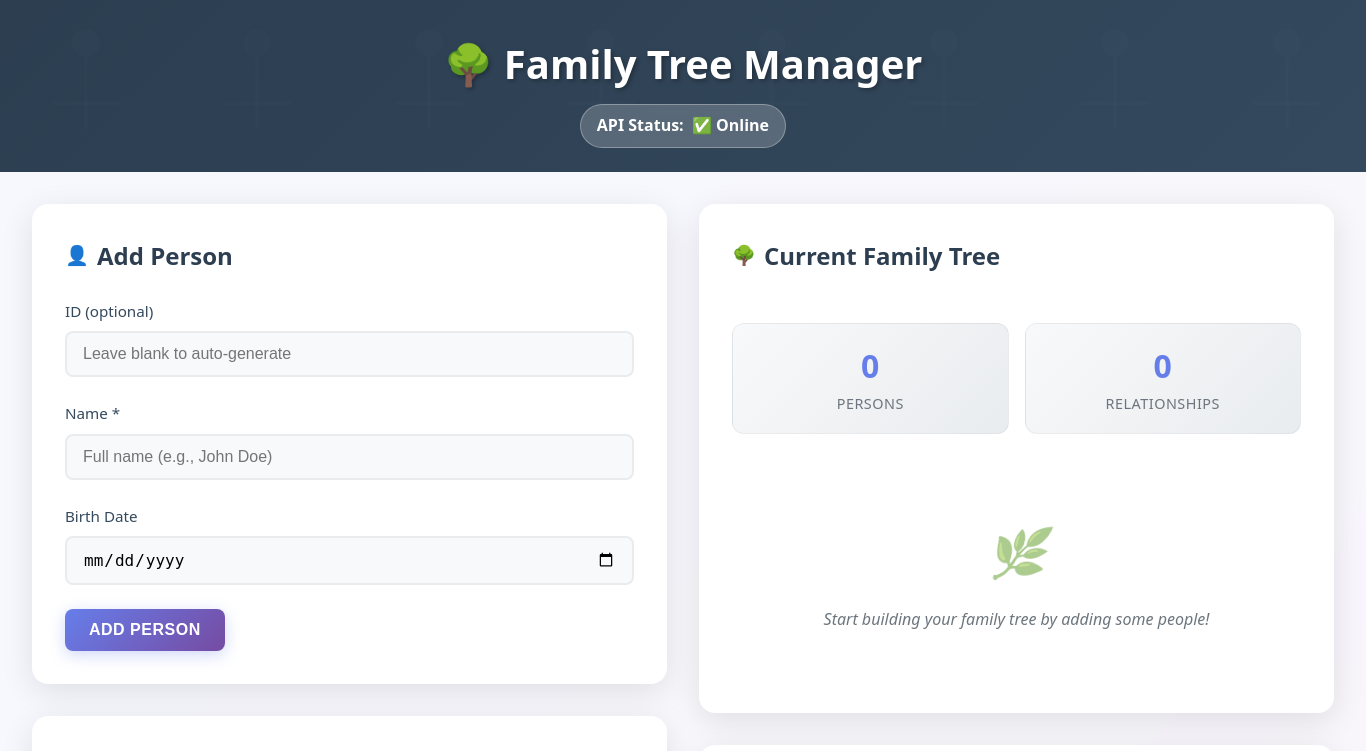
Test case: App › adds a person successfully
This screenshot has width=1366, height=751.
Expected: the text "✅ Online" is shown, 692,113 -> 769,139
Note: Add a person
Type "person-1" into the field labelled "ID (optional)" at (350,354), box 65,331 -> 634,377
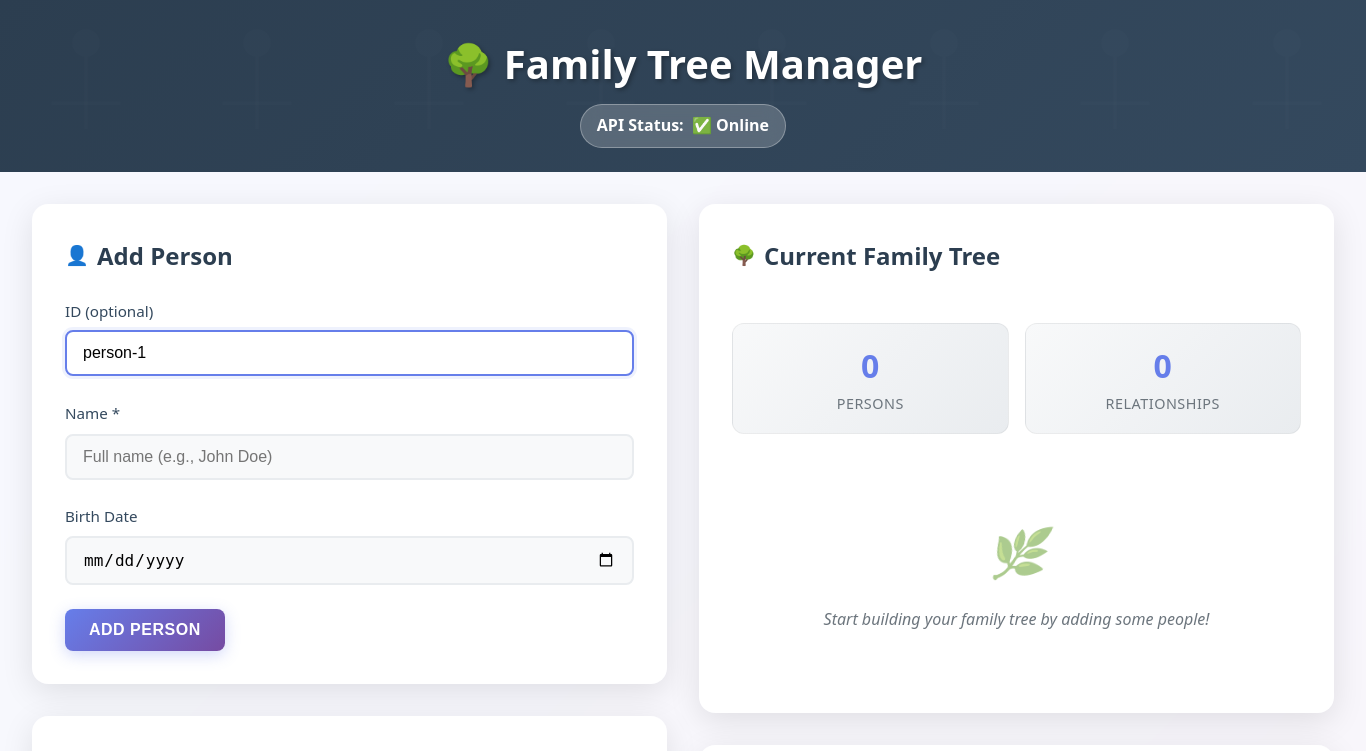
Type "John Doe" into the field labelled "Name *" at (350,457), box 65,434 -> 634,480
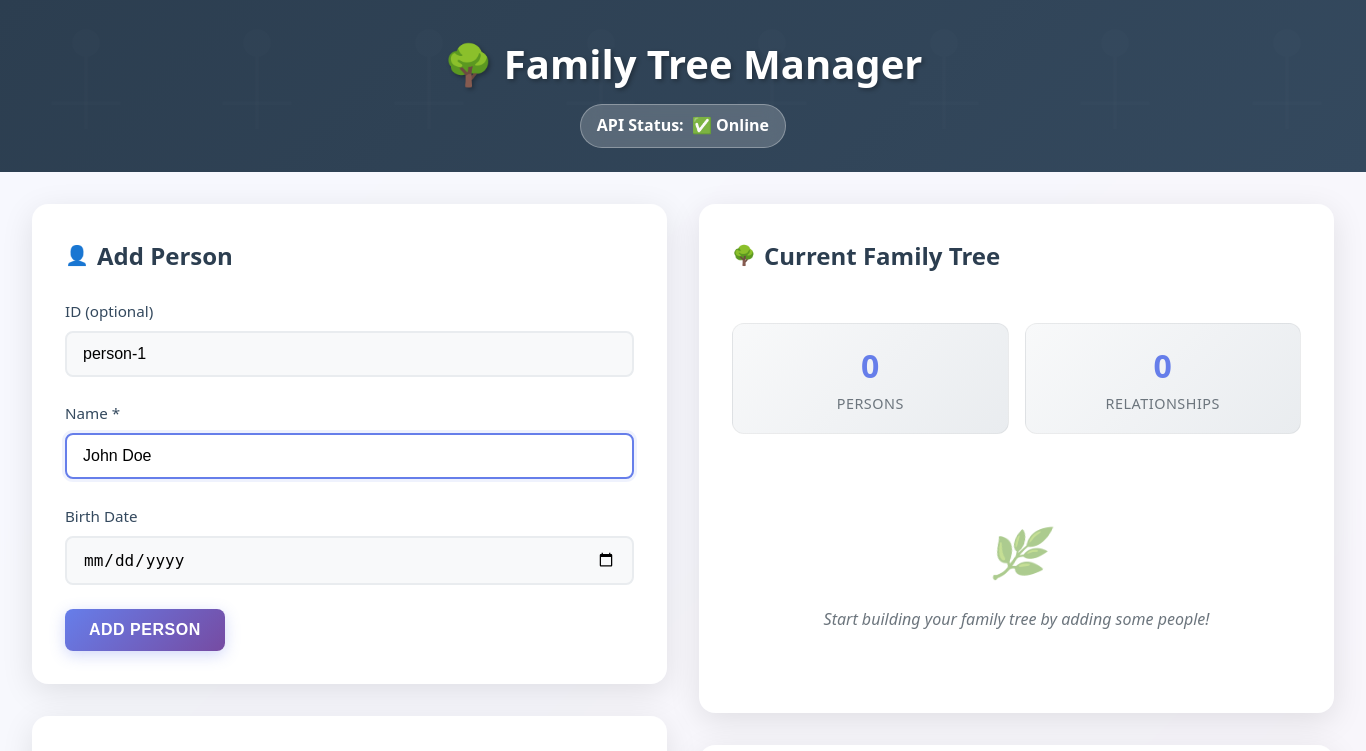
Type "1970-01-01" into the date field labelled "Birth Date" at (350,560), box 65,536 -> 634,585
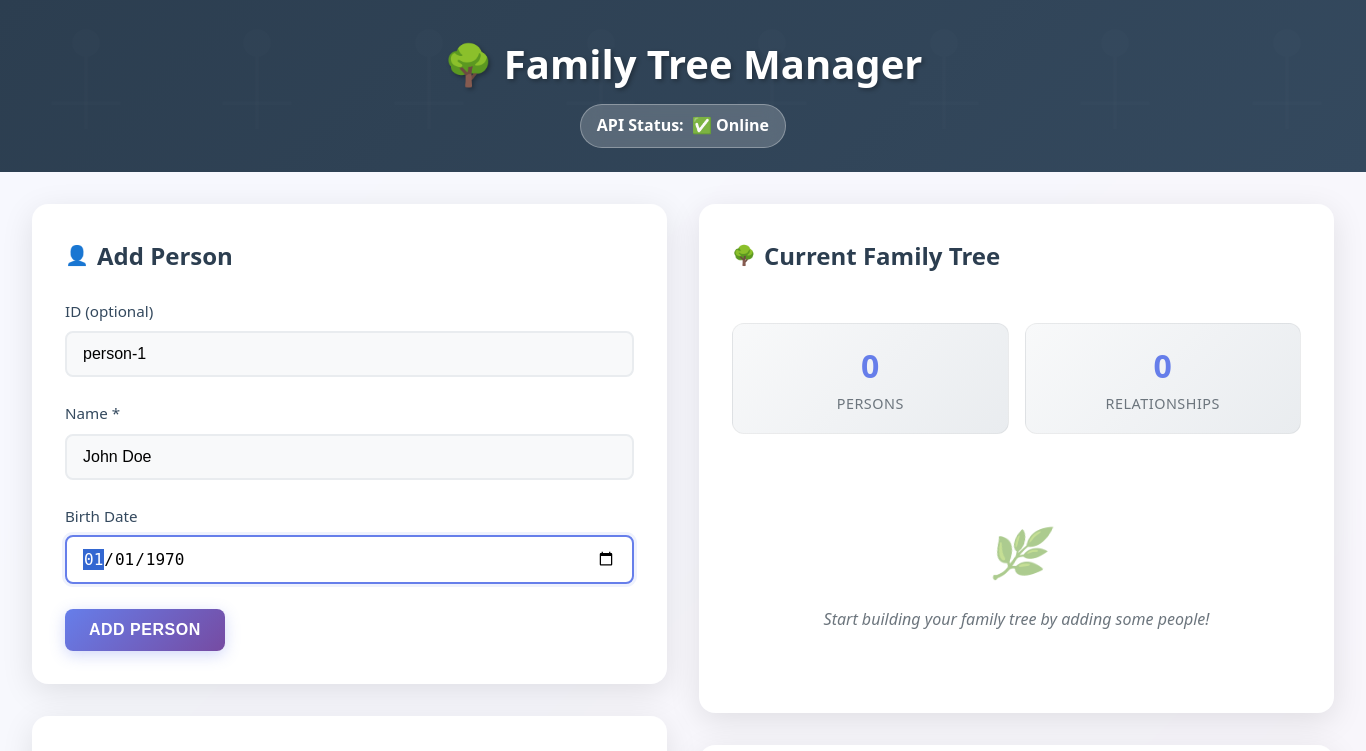
Click the button "Add Person" at (145,630), box 65,609 -> 225,651
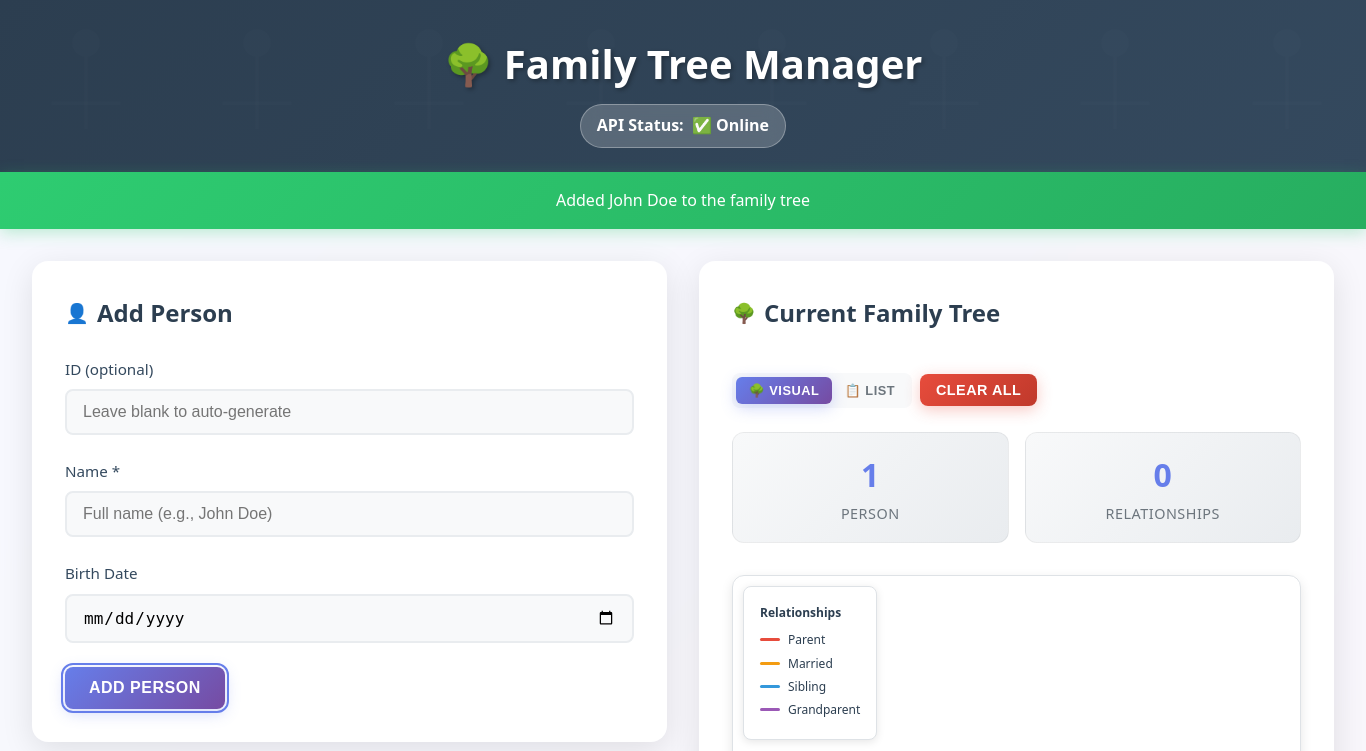
Expected: the text "Person" is shown, 841,504 -> 900,522
Result: the text "Added John Doe to the family tree" is shown at 0,172 -> 1365,229
Click the button "📋 List" at (870,390), box 832,377 -> 908,404
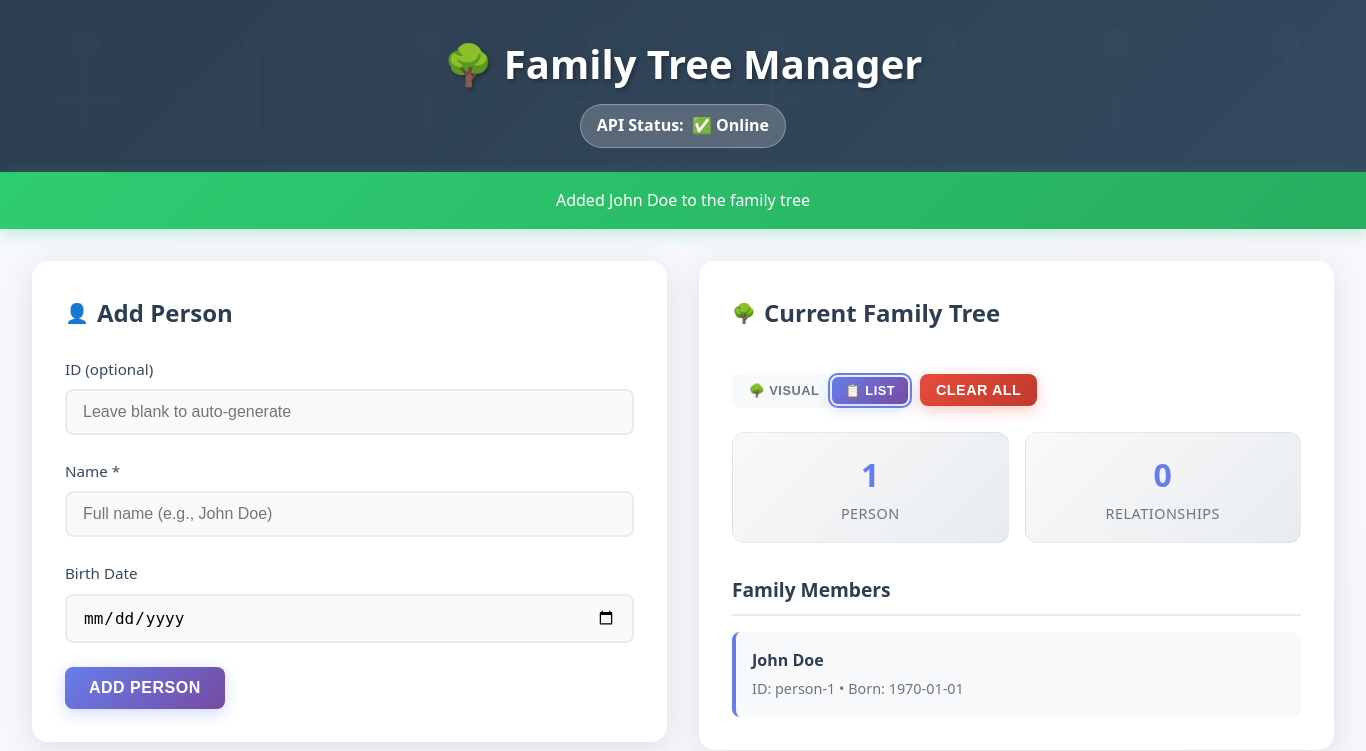
Result: the text "John Doe" is shown at 752,649 -> 824,671
